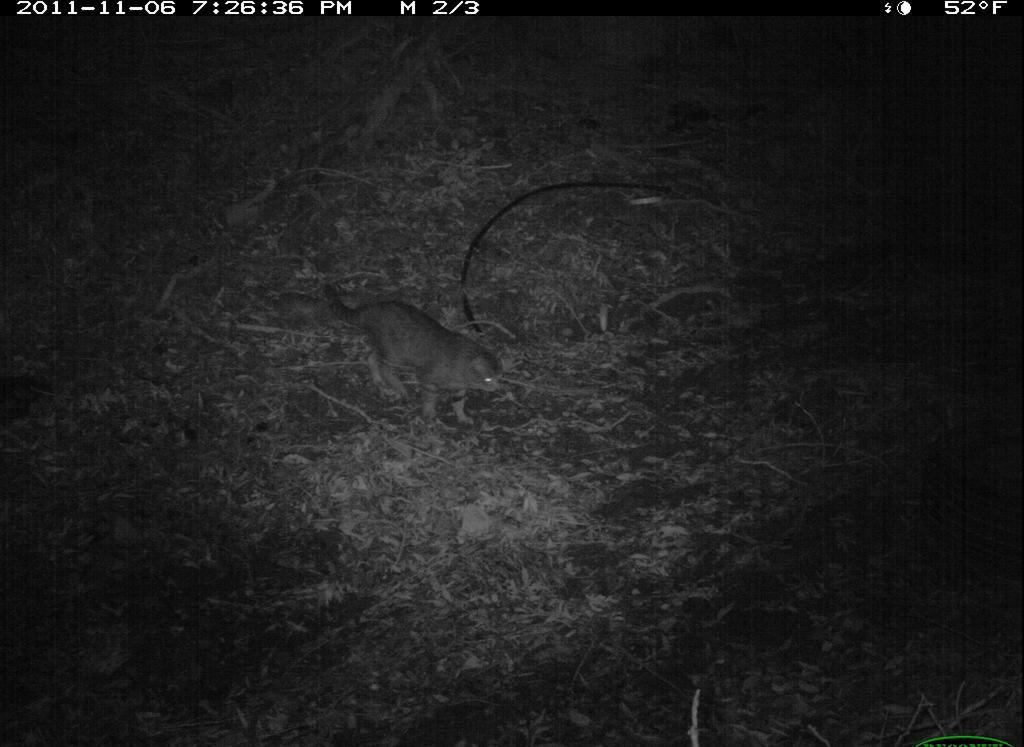cat: (316, 268, 510, 436)
